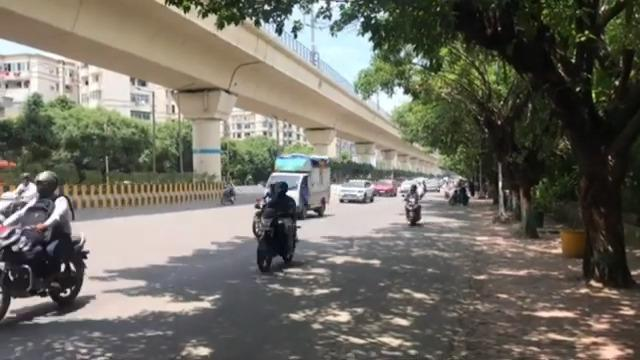Bike: (0, 171, 87, 323), (248, 178, 300, 272), (402, 185, 422, 226), (447, 176, 469, 205), (220, 172, 237, 205)
Truck: (263, 152, 332, 219)
